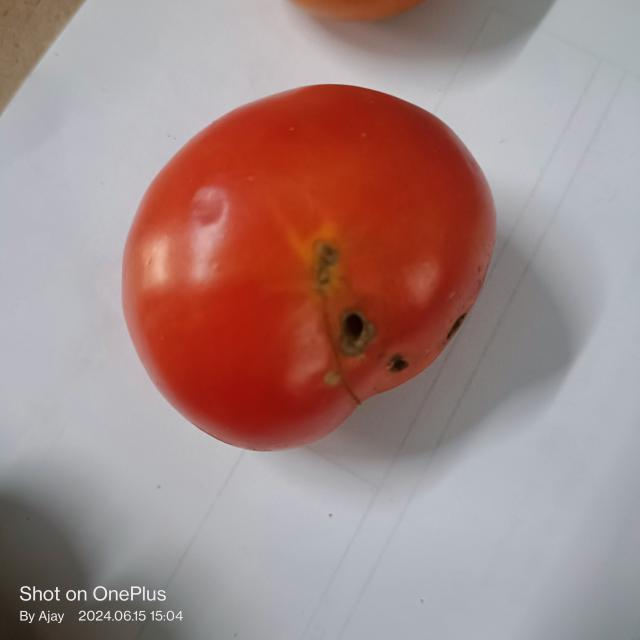fruitworm_bore: (298, 245, 370, 358), (382, 342, 414, 385)
